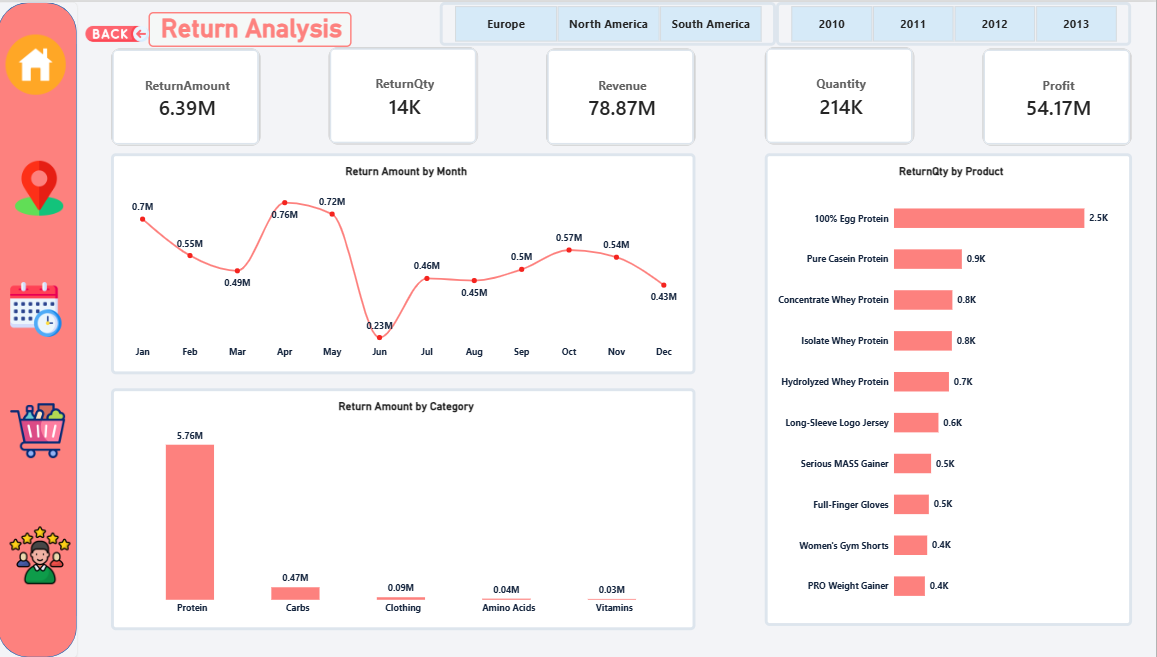

This screenshot's page, from the dashboard's own definition file:
{"tool":"powerbi","page":{"name":"Return Analysis","canvas":[1920,1080],"ordinal":2},"visuals":[{"type":"shape","box":[10.9,0,132.1,1080.4],"z":0},{"type":"cardVisual","fields":{"Data":["Calculations.ReturnAmount"]},"box":[197.3,76,246.1,161.1],"z":1000},{"type":"cardVisual","fields":{"Data":["Calculations.Revenue"]},"box":[914.8,76,246.1,161.1],"z":2000},{"type":"cardVisual","fields":{"Data":["Calculations.ReturnQty"]},"box":[556,74.2,246.1,161.1],"z":3000},{"type":"cardVisual","fields":{"Data":["Calculations.Quantity"]},"box":[1273.5,74.2,246.1,161.1],"z":4000},{"type":"cardVisual","fields":{"Data":["Calculations.Profit"]},"box":[1632.3,76,246.1,161.1],"z":5000},{"type":"lineChart","title":"Return Amount by Month","fields":{"Category":["Calendar.Month Name"],"Y":["Calculations.ReturnAmount"]},"box":[197.3,249.7,962.7,363.7],"z":6000},{"type":"barChart","title":"ReturnQty by Product","fields":{"Category":["D_Product.ProductName"],"Y":["Calculations.ReturnQty"]},"box":[1274,249.7,604.4,778.2],"z":7000},{"type":"columnChart","title":"Return Amount by Category","fields":{"Category":["D_Product.CategoryName"],"Y":["Calculations.ReturnAmount"]},"box":[197.3,635.2,962.7,398.1],"z":8000},{"type":"textbox","title":"Return Analysis","box":[258.8,16.3,334.8,57.9],"z":9000},{"type":"image","box":[10.9,54.3,126.7,99.5],"z":9001},{"type":"image","box":[19.9,262.4,117.6,90.5],"z":9002},{"type":"image","box":[10.9,461.5,126.7,90.5],"z":9003},{"type":"image","box":[16.3,660.5,121.2,90.5],"z":9004},{"type":"image","box":[25.3,859.6,112.2,101.3],"z":9005},{"type":"image","box":[94.1,0,226.2,105],"z":9006},{"type":"slicer","fields":{"Values":["Calendar.Year"]},"box":[1292.1,0,584.5,72.4],"z":9007},{"type":"slicer","fields":{"Values":["D_Customers.Continent"]},"box":[738.3,0,553.8,72.4],"z":9008}]}

Visuals, with their boxes in screenshot pixels (x1, y1, x2, y2), scaled from the page's 1920x1080 canvas onto the 1157x657 screenshot:
shape: 7, 0, 86, 656
cardVisual - Calculations.ReturnAmount: 119, 46, 267, 144
cardVisual - Calculations.Revenue: 551, 46, 700, 144
cardVisual - Calculations.ReturnQty: 335, 45, 483, 143
cardVisual - Calculations.Quantity: 767, 45, 916, 143
cardVisual - Calculations.Profit: 984, 46, 1132, 144
"Return Amount by Month" lineChart: 119, 152, 699, 373
"ReturnQty by Product" barChart: 768, 152, 1132, 625
"Return Amount by Category" columnChart: 119, 386, 699, 629
"Return Analysis" textbox: 156, 10, 358, 45
image: 7, 33, 83, 94
image: 12, 160, 83, 215
image: 7, 281, 83, 336
image: 10, 402, 83, 457
image: 15, 523, 83, 585
image: 57, 0, 193, 64
slicer - Calendar.Year: 779, 0, 1131, 44
slicer - D_Customers.Continent: 445, 0, 779, 44
